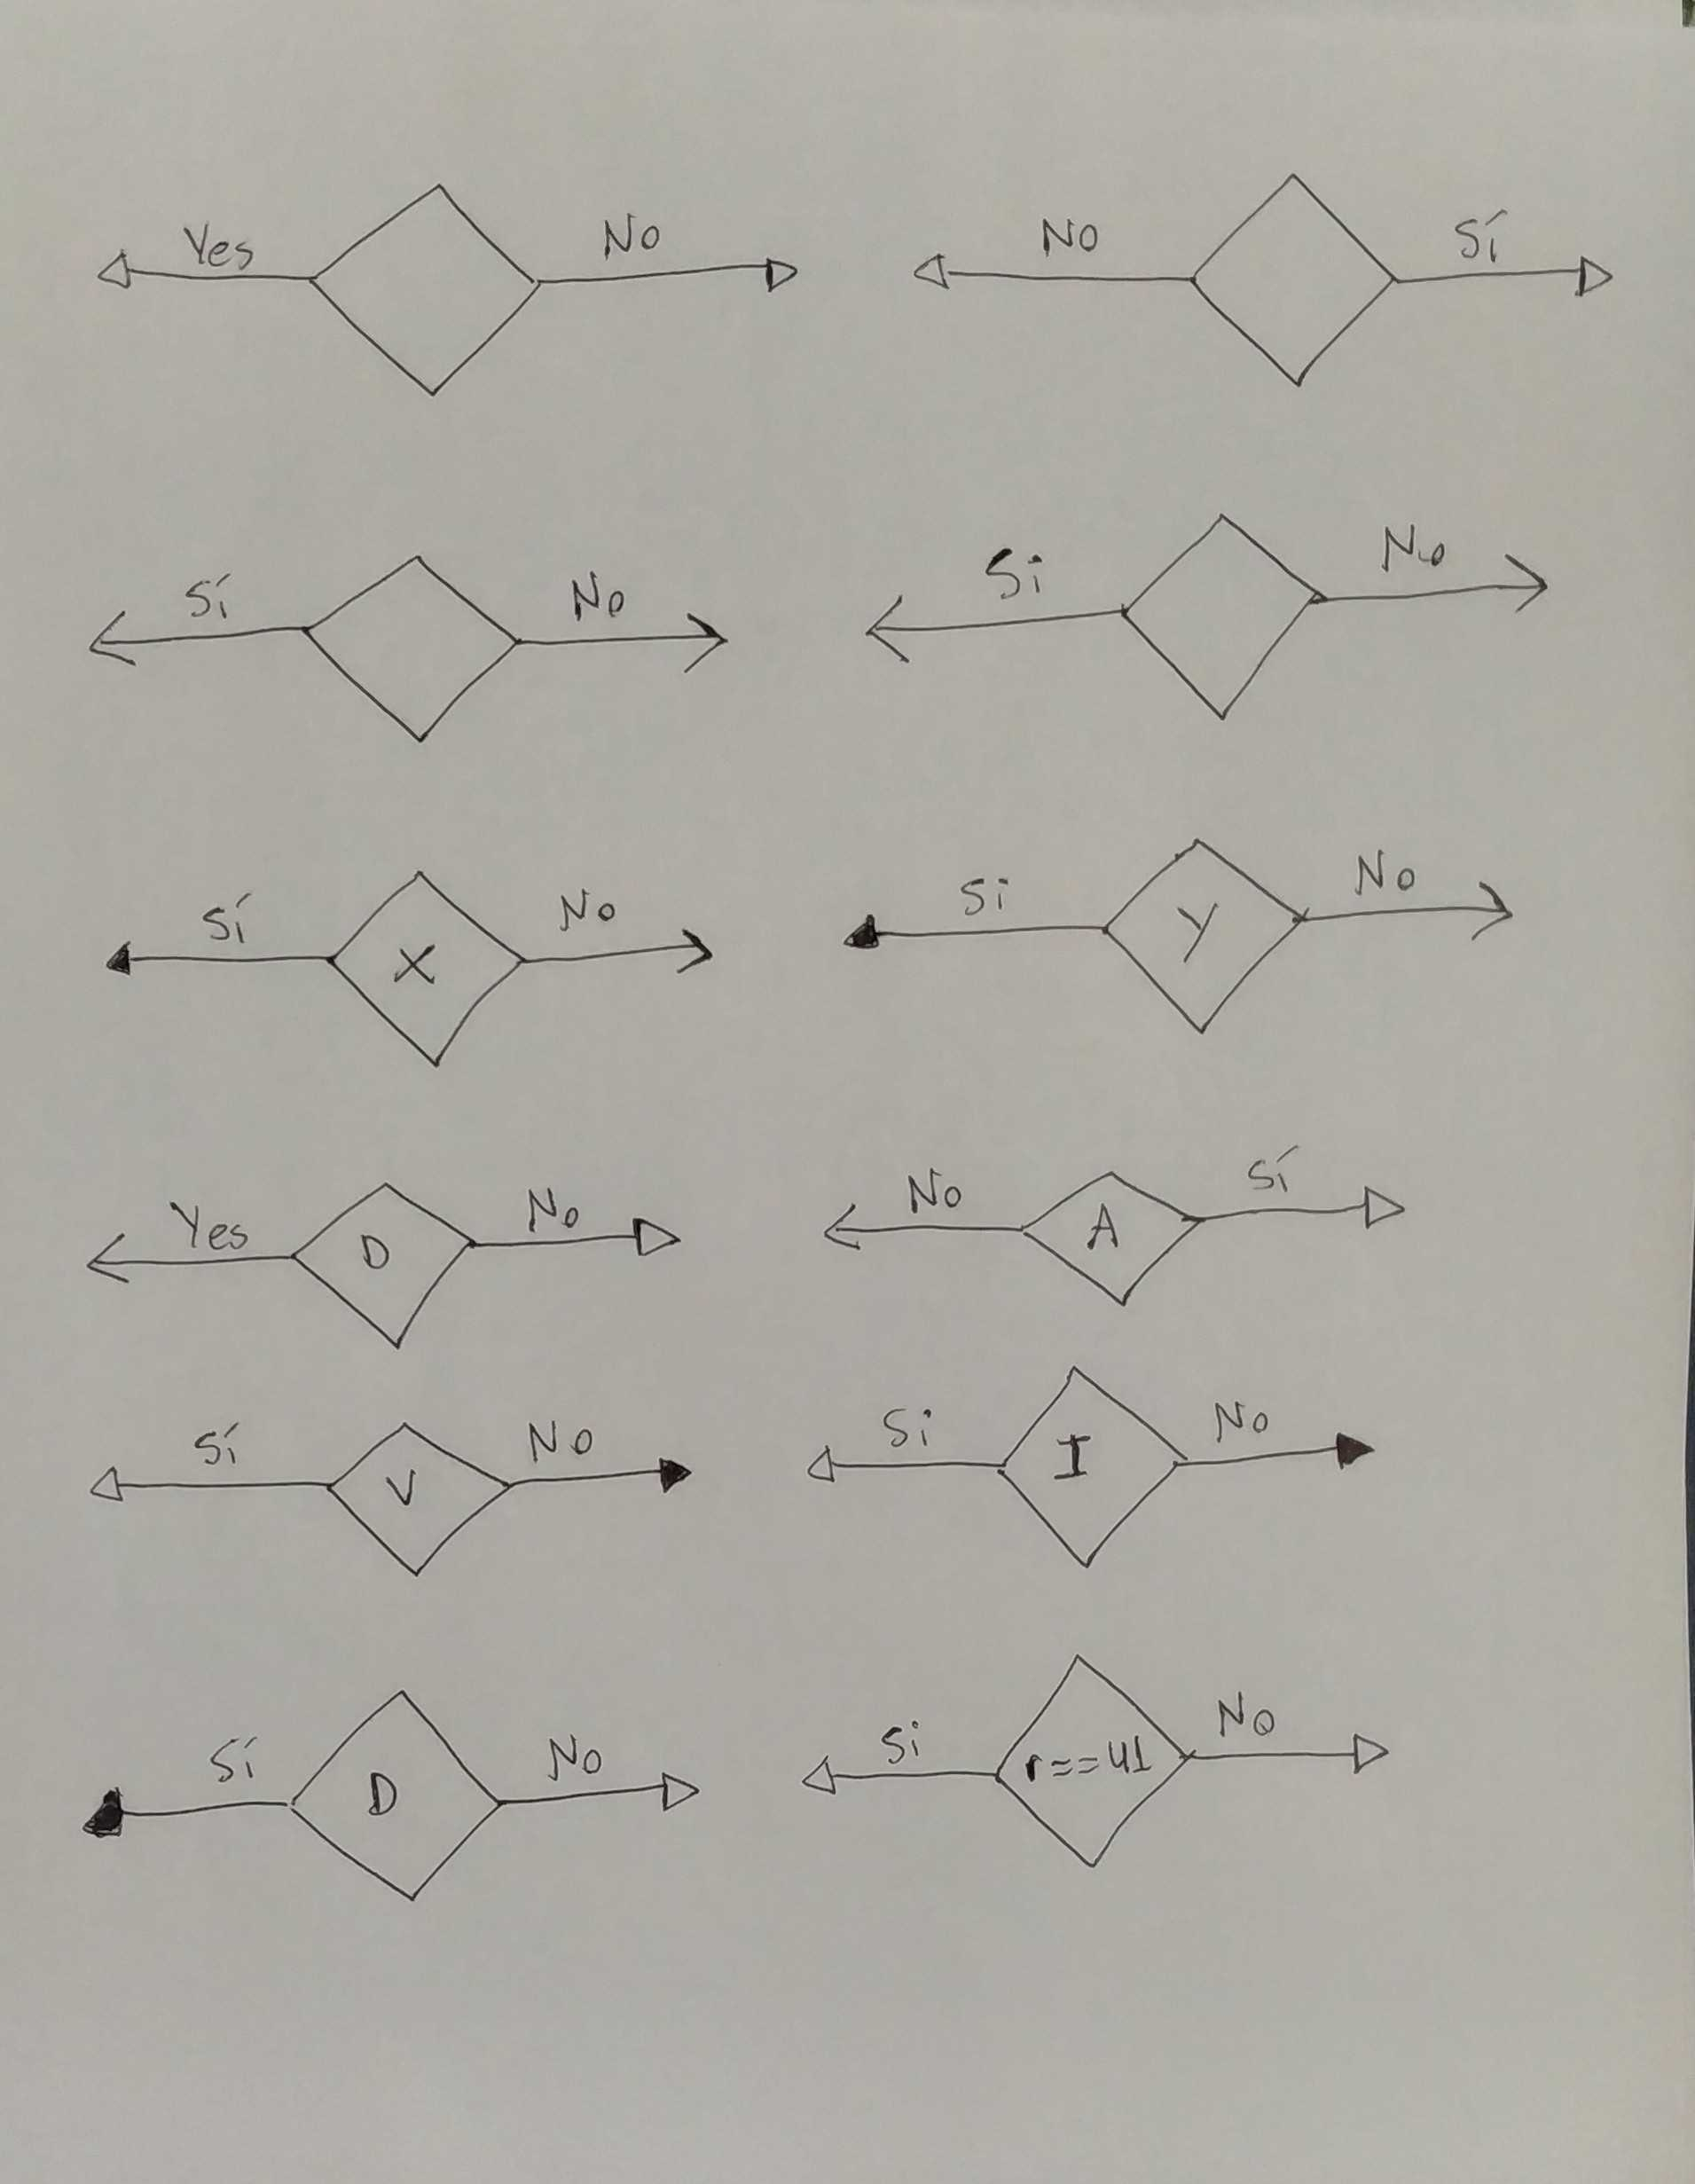arrow_line_left: (860, 585, 1126, 670), (902, 245, 1197, 308), (835, 902, 1110, 961), (78, 603, 314, 668), (98, 925, 337, 987), (76, 1782, 296, 1849), (90, 245, 316, 307), (78, 1225, 296, 1289), (83, 1455, 333, 1510), (794, 1744, 1002, 1810), (801, 1436, 1005, 1496), (817, 1200, 1030, 1255)
arrow_line_right: (1317, 550, 1553, 631), (537, 248, 812, 308), (518, 612, 746, 681), (1298, 877, 1519, 947), (466, 1205, 690, 1269), (1197, 1179, 1413, 1244), (498, 1766, 709, 1831), (1177, 1422, 1381, 1489), (516, 922, 723, 986), (504, 1448, 702, 1512), (1188, 1725, 1397, 1783)
decision: (310, 172, 546, 402), (287, 1684, 509, 1916), (1188, 161, 1397, 397), (1117, 505, 1333, 732), (301, 544, 527, 748), (993, 1645, 1191, 1876), (995, 1354, 1191, 1576), (1105, 830, 1303, 1046), (332, 858, 525, 1074), (291, 1172, 475, 1354), (330, 1413, 511, 1585), (1021, 1158, 1206, 1315), (1392, 245, 1621, 308)
